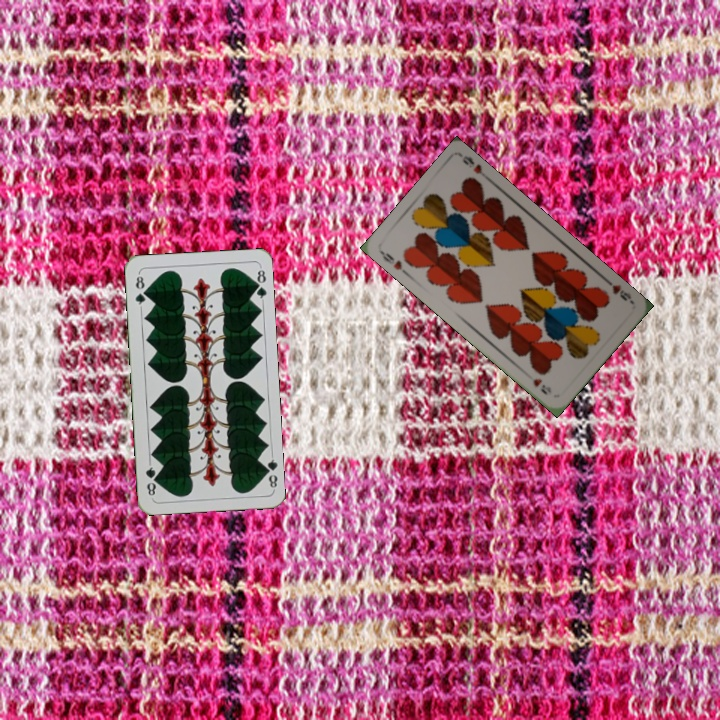G8: (259, 451, 280, 490), (131, 270, 149, 310)
H9: (376, 247, 411, 278), (601, 275, 635, 305)
